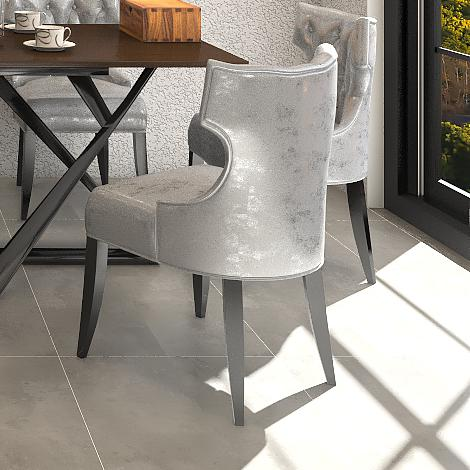table: (1, 22, 251, 300)
